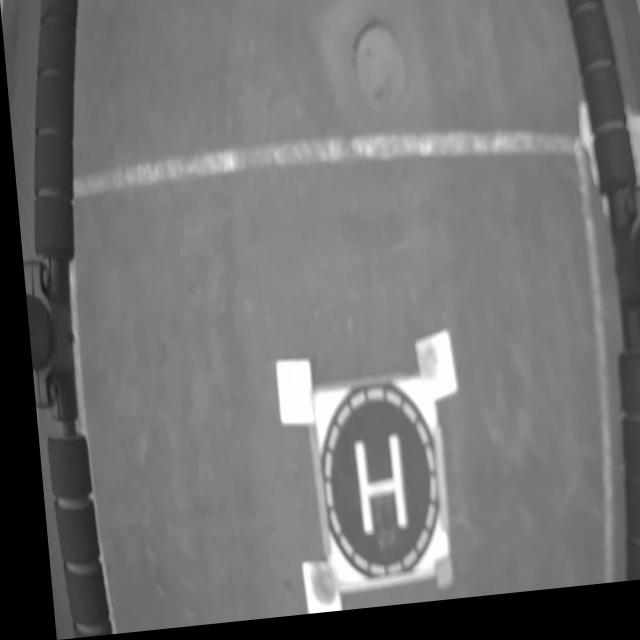Helipad: (345, 439, 397, 542)
